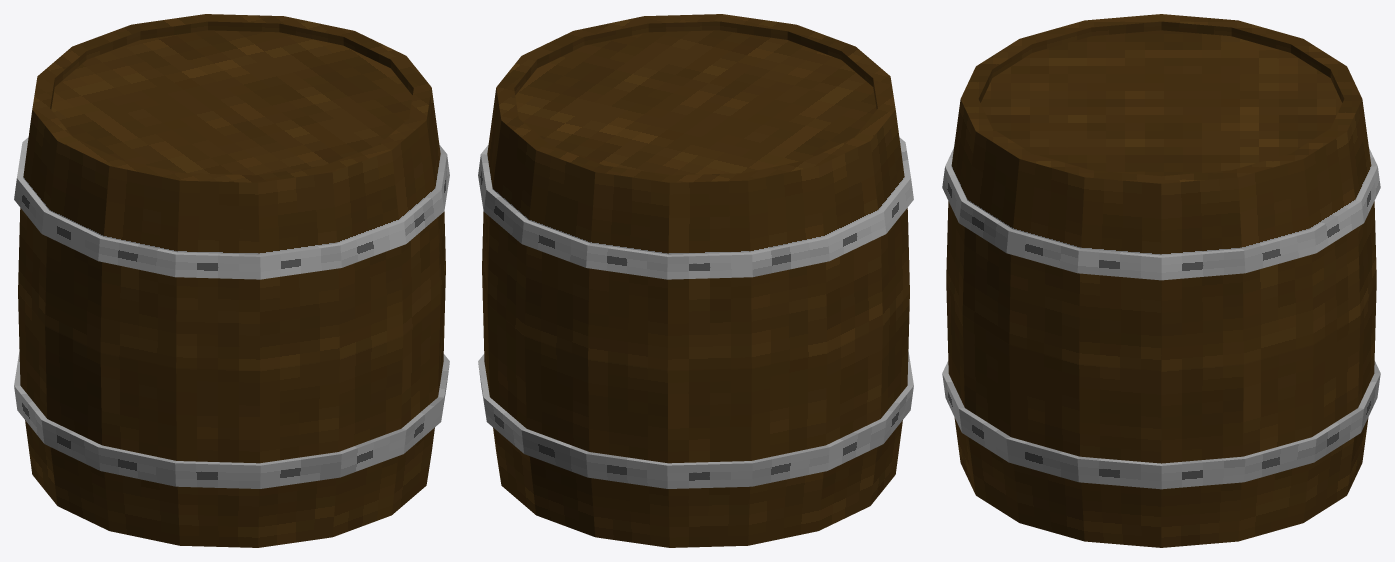
The model's file is barrel.obj.
3 renders of one model, left to right at view 1: azimuth 30°, elevation 25°; view 2: azimuth 150°, elevation 25°; view 3: azimuth 270°, elevation 25°, orthographic.
Parts seen in each view (by area): view 1: Barrel_Cube.002; view 2: Barrel_Cube.002; view 3: Barrel_Cube.002.
Boxes of the visible parts, x1,y1,x2,y2 form: Barrel_Cube.002: (14,14,449,547); Barrel_Cube.002: (478,14,913,547); Barrel_Cube.002: (942,14,1380,547).
Size of the model in its own units: 0.7496 by 0.6869 by 0.7496.
